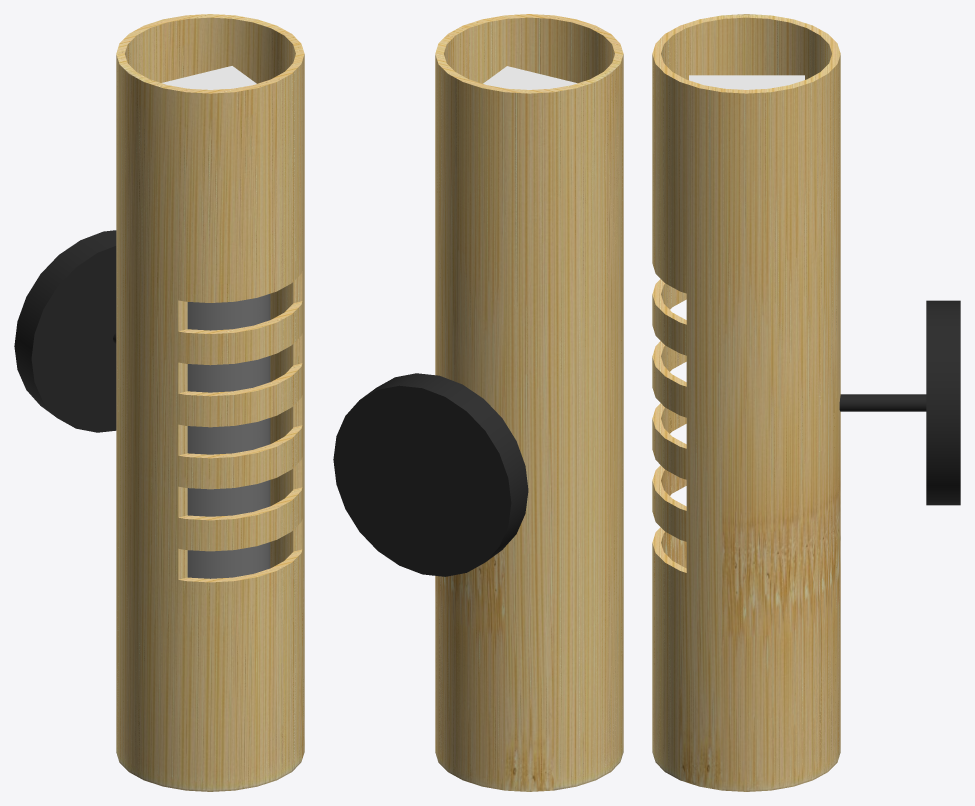
The model's file is Arandela.dae.
The picture shows the model from 3 angles, left to right: view 1: azimuth 30°, elevation 25°; view 2: azimuth 150°, elevation 25°; view 3: azimuth 270°, elevation 25°; orthographic projection.
Parts seen in each view (by area): view 1: Arandela, Diferença, group_0, V-Ray_Rectangle_Light; view 2: Arandela, Diferença, V-Ray_Rectangle_Light; view 3: Arandela, Diferença (×2), V-Ray_Rectangle_Light.
Part boxes in pixels (x1,y1,x2,y2): Arandela: [116, 14, 304, 791]; Diferença: [14, 230, 116, 432]; group_0: [187, 294, 270, 578]; V-Ray_Rectangle_Light: [162, 66, 256, 89]; Arandela: [435, 14, 623, 791]; Diferença: [333, 373, 528, 576]; V-Ray_Rectangle_Light: [483, 66, 577, 89]; Arandela: [652, 14, 840, 791]; Diferença (×2): [839, 300, 960, 505]; V-Ray_Rectangle_Light: [689, 75, 804, 89].
Bounding box in the file's own units: 4.72 × 7.09 × 17.72.
Materials: 4 (1 with a texture image).
